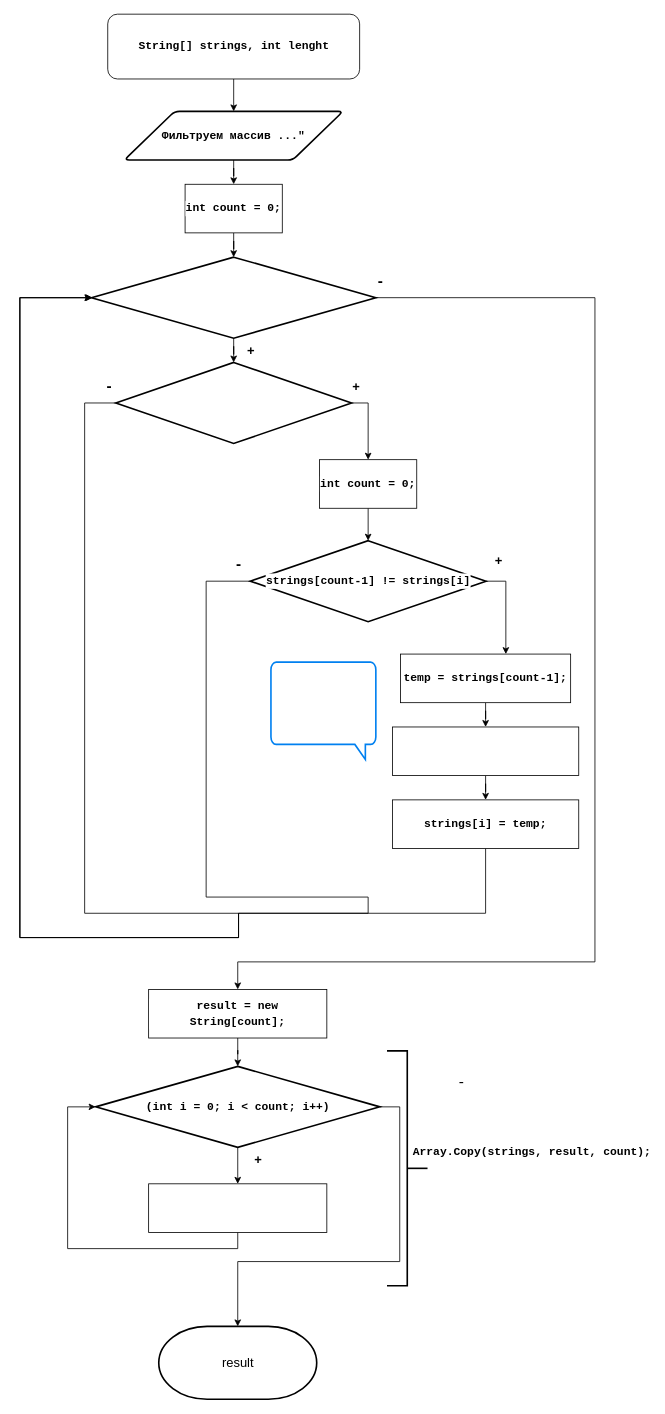
The diagram is 665 pixels wide and 1414 high, and some of its shapes have lost their labels. Each missing label, with the centre of its shape:
"(int i = 0 ; i < strings . Length ; i ++)" goes at pixel 233 297.
"result [ i ]= strings [ i ];" goes at pixel 237 1207.
"strings [ count - 1 ]= strings [ i ];" goes at pixel 485 751.
"strings [ i ] . Length <= lenght" goes at pixel 233 402.
"не удаляем, а меняем местами для отладки" goes at pixel 323 710.
